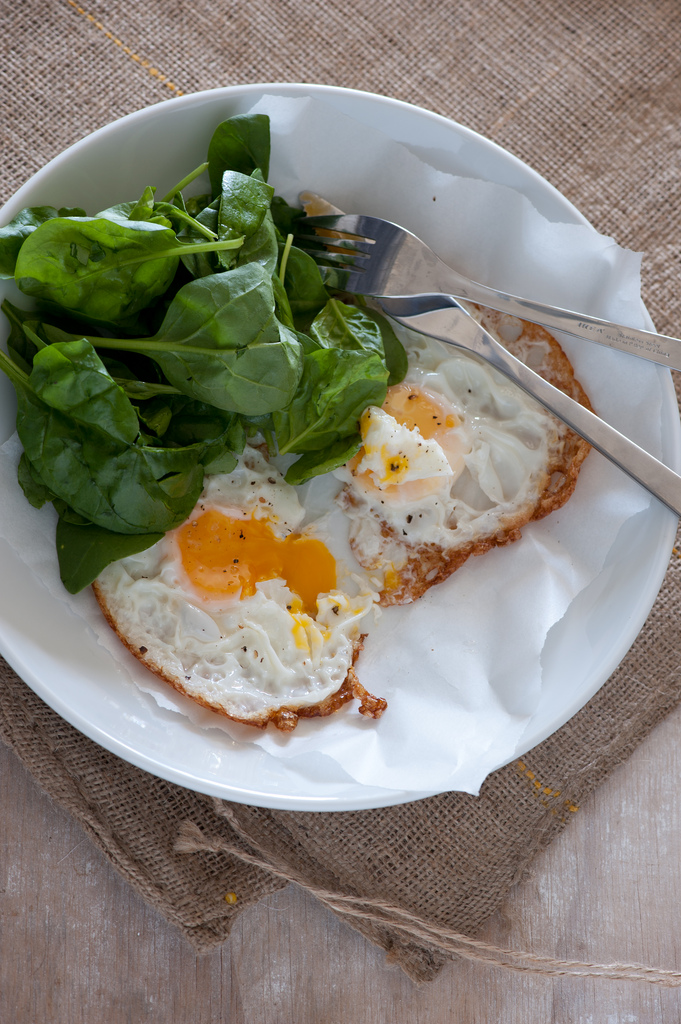chopped lettuce: (7, 162, 405, 523)
fried egg: (63, 452, 383, 743), (355, 323, 596, 602)
